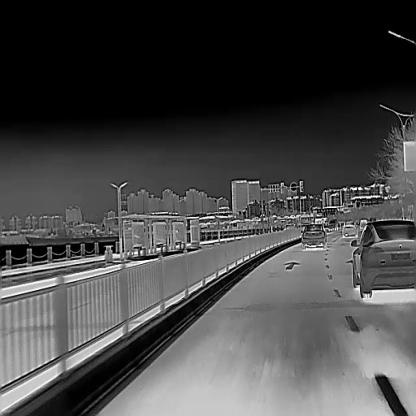car: (350, 218, 416, 297), (300, 223, 326, 249), (342, 220, 358, 237), (328, 218, 338, 230), (358, 218, 366, 230)
